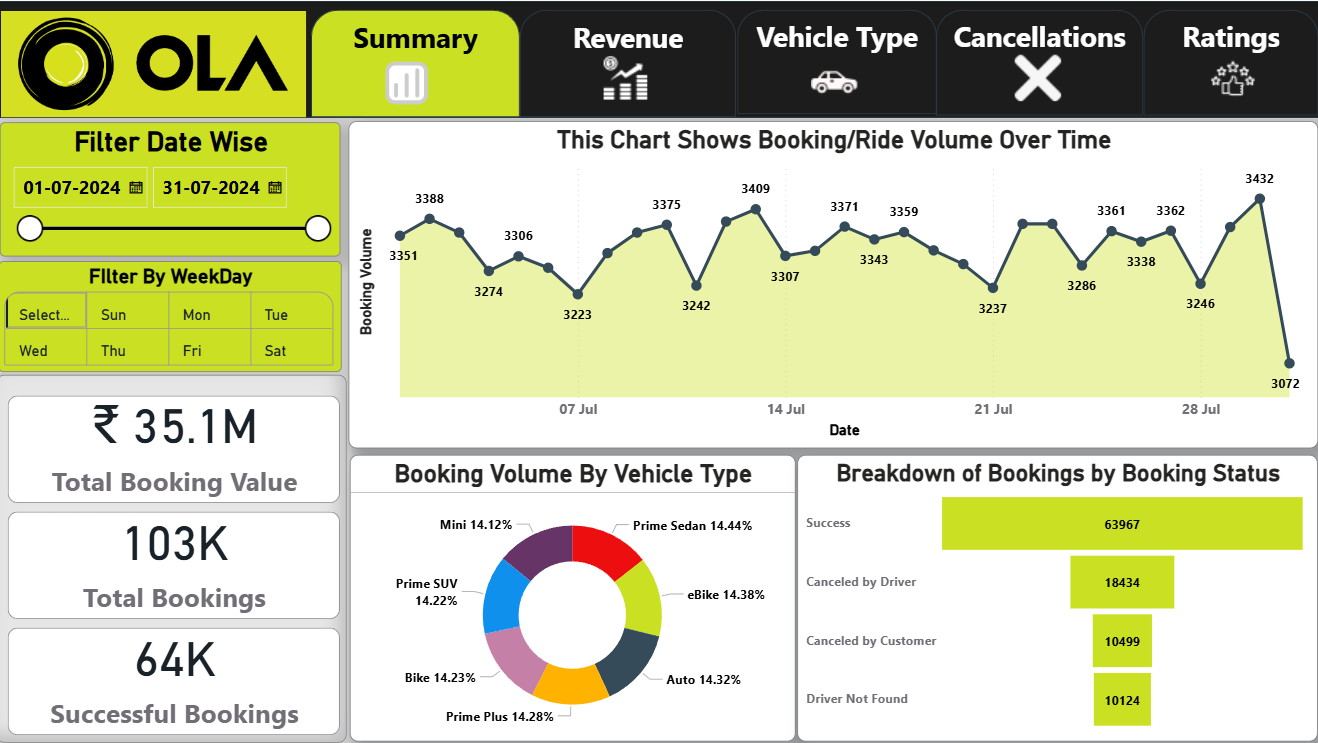

What the dashboard file says about the page in this screenshot:
{"tool":"powerbi","page":{"name":"Summary","canvas":[1280,720],"ordinal":0},"visuals":[{"type":"group","id":"g1","title":"Group 1","box":[2.1,940.7,389,113.2],"z":0},{"type":"slicer","title":"Filter Date Wise","fields":{"Values":["OLA Dataset.Date"]},"box":[3.7,116.5,329.2,129.4],"z":1000},{"type":"shape","box":[304.1,8.9,201.7,103.8],"z":2000,"group":"g3"},{"type":"shape","box":[5.1,9.1,294.3,102.8],"z":2000,"group":"g2"},{"type":"lineChart","title":"This Chart Shows Booking/Ride Volume Over Time","fields":{"Category":["OLA Dataset.Date"],"Y":["CountNonNull(OLA Dataset.Booking_ID)"]},"box":[340,115.4,936.2,315.9],"z":2000},{"type":"shape","box":[505.8,8.9,209.1,103.8],"z":3000,"group":"g4"},{"type":"image","box":[5.1,9.1,294.3,102.8],"z":3000,"group":"g2"},{"type":"donutChart","title":"Booking Volume By Vehicle Type","fields":{"Y":["CountNonNull(OLA Dataset.Booking_ID)"],"Category":["OLA Dataset.Vehicle_Type"]},"box":[341.2,437.7,430,276.6],"z":3000},{"type":"shape","box":[714.9,8.9,192.8,100.9],"z":4000,"group":"g5"},{"type":"funnel","title":"Breakdown of Bookings by Booking Status","fields":{"Category":["OLA Dataset.Booking_Status"],"Y":["CountNonNull(OLA Dataset.Booking_ID)"]},"box":[773.8,437.7,502.4,276.6],"z":4000},{"type":"image","box":[2.1,961.3,121.4,88.5],"z":4000,"group":"g1"},{"type":"shape","box":[907.7,8.9,200.2,102.3],"z":5000,"group":"g6"},{"type":"cardVisual","fields":{"Data":["OLA Dataset.Successful Booking Value","CountNonNull(OLA Dataset.Booking_ID)","OLA Dataset.Successful Bookings"]},"box":[0,360.6,338.4,355],"z":5000},{"type":"shape","box":[100.9,940.7,290.2,113.2],"z":5000,"group":"g1"},{"type":"shape","box":[1.3,0,1276.2,112.9],"z":6000},{"type":"shape","box":[1107.9,8.9,169.1,102.3],"z":6000,"group":"g7"},{"type":"group","id":"g2","title":"Group 3","box":[5.1,9.1,294.3,102.8],"z":7000},{"type":"image","box":[580.3,47.6,54.9,54.9],"z":7001,"group":"g4"},{"type":"image","box":[781.8,55,54.9,54.9],"z":7002,"group":"g5"},{"type":"image","box":[979.3,47.6,54.9,54.9],"z":7003,"group":"g6"},{"type":"image","box":[1167.3,47.6,54.9,54.9],"z":7004,"group":"g7"},{"type":"group","id":"g3","title":"Group 1","box":[304.1,8.9,201.7,103.8],"z":8000},{"type":"image","box":[369.3,52.1,54.9,54.9],"z":8500,"group":"g3"},{"type":"group","id":"g4","title":"Group 2","box":[505.8,8.9,209.1,103.8],"z":9000},{"type":"group","id":"g5","title":"Group 4","box":[714.9,8.9,192.8,101],"z":10000},{"type":"group","id":"g6","title":"Group 5","box":[907.7,8.9,200.2,102.3],"z":11000},{"type":"group","id":"g7","title":"Group 6","box":[1107.9,8.9,169.1,102.3],"z":12000},{"type":"actionButton","box":[505.8,8.9,209.1,106.8],"z":13000},{"type":"actionButton","box":[305.5,8.9,200.2,106.8],"z":14000},{"type":"actionButton","box":[714.9,5.9,192.8,106.8],"z":15000},{"type":"actionButton","box":[1107.9,8.9,167.6,103.8],"z":16000},{"type":"actionButton","box":[907.7,5.9,192.8,106.8],"z":17000},{"type":"actionButton","box":[298.1,7.4,209.1,106.8],"z":18000},{"type":"advancedSlicerVisual","title":"FIlter By WeekDay","fields":{"Values":["OLA Dataset.Day Name"]},"box":[1.8,251.5,331,107],"z":19000}]}

Visuals, with their boxes in screenshot pixels (x1, y1, x2, y2), scaled from the page's 1280x720 canvas onto the 1318x743 screenshot:
"Filter Date Wise" slicer: [x1=4, y1=120, x2=343, y2=254]
shape: [x1=313, y1=9, x2=521, y2=116]
shape: [x1=5, y1=9, x2=308, y2=115]
"This Chart Shows Booking/Ride Volume Over Time" lineChart: [x1=350, y1=119, x2=1314, y2=445]
shape: [x1=521, y1=9, x2=736, y2=116]
image: [x1=5, y1=9, x2=308, y2=115]
"Booking Volume By Vehicle Type" donutChart: [x1=351, y1=452, x2=794, y2=737]
shape: [x1=736, y1=9, x2=935, y2=113]
"Breakdown of Bookings by Booking Status" funnel: [x1=797, y1=452, x2=1314, y2=737]
shape: [x1=935, y1=9, x2=1141, y2=115]
cardVisual - OLA Dataset.Successful Booking Value x CountNonNull(OLA Dataset.Booking_ID): [x1=0, y1=372, x2=348, y2=738]
shape: [x1=1, y1=0, x2=1315, y2=117]
shape: [x1=1141, y1=9, x2=1315, y2=115]
"Group 3" group: [x1=5, y1=9, x2=308, y2=115]
image: [x1=598, y1=49, x2=654, y2=106]
image: [x1=805, y1=57, x2=862, y2=113]
image: [x1=1008, y1=49, x2=1065, y2=106]
image: [x1=1202, y1=49, x2=1258, y2=106]
"Group 1" group: [x1=313, y1=9, x2=521, y2=116]
image: [x1=380, y1=54, x2=437, y2=110]
"Group 2" group: [x1=521, y1=9, x2=736, y2=116]
"Group 4" group: [x1=736, y1=9, x2=935, y2=113]
"Group 5" group: [x1=935, y1=9, x2=1141, y2=115]
"Group 6" group: [x1=1141, y1=9, x2=1315, y2=115]
actionButton: [x1=521, y1=9, x2=736, y2=119]
actionButton: [x1=315, y1=9, x2=521, y2=119]
actionButton: [x1=736, y1=6, x2=935, y2=116]
actionButton: [x1=1141, y1=9, x2=1313, y2=116]
actionButton: [x1=935, y1=6, x2=1133, y2=116]
actionButton: [x1=307, y1=8, x2=522, y2=118]
"FIlter By WeekDay" advancedSlicerVisual: [x1=2, y1=260, x2=343, y2=370]
